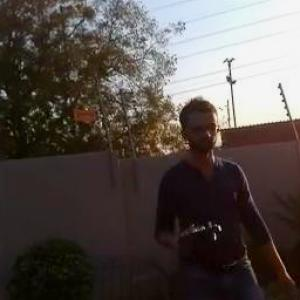follow: (149, 89, 300, 299)
